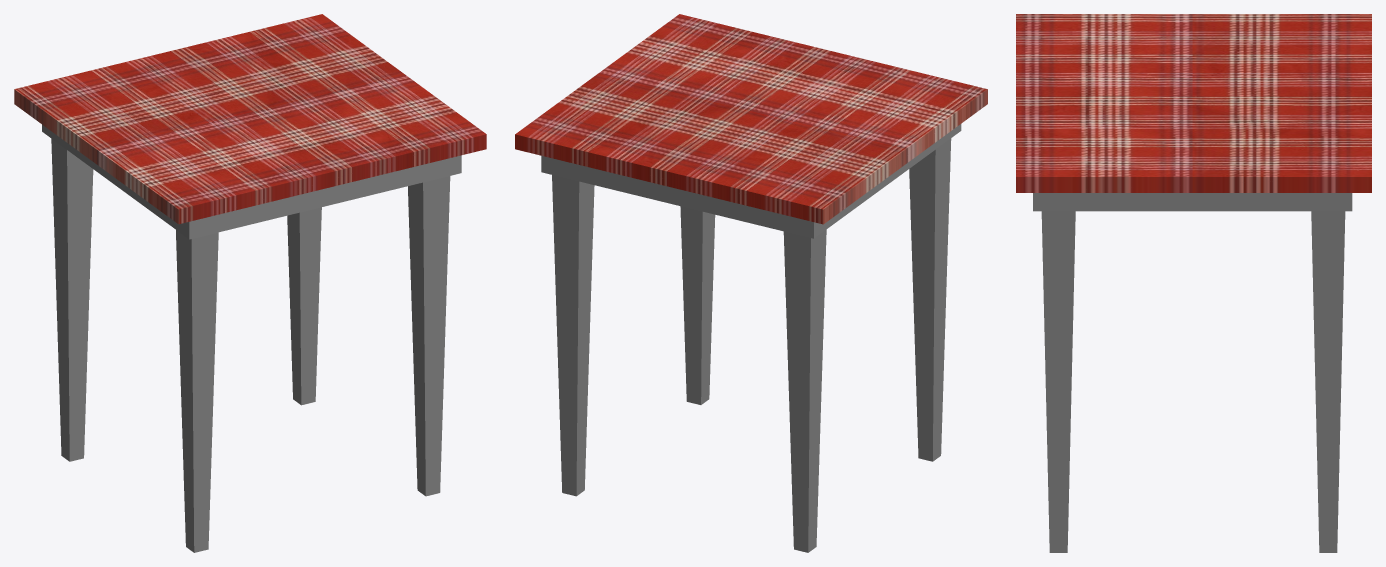
The model's file is table lunch small 1.FBX.
3 views of the same model, side by side, from view 1: azimuth 30°, elevation 25°; view 2: azimuth 150°, elevation 25°; view 3: azimuth 270°, elevation 25° (orthographic). The views are drawn at different scales.
Parts seen in each view (by area): view 1: table lunch small; view 2: table lunch small; view 3: table lunch small.
Part boxes in pixels (left/top/right/bottom): table lunch small: left=14, top=14, right=486, bottom=552; table lunch small: left=515, top=14, right=987, bottom=552; table lunch small: left=1016, top=14, right=1371, bottom=552.
Size of the model in its own units: 64.95 by 73 by 60.
3 materials, 2 textured.
